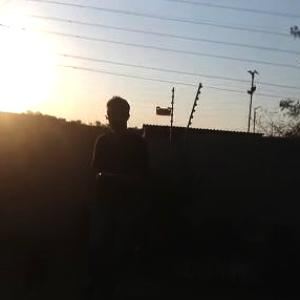follow: (88, 89, 154, 299)
